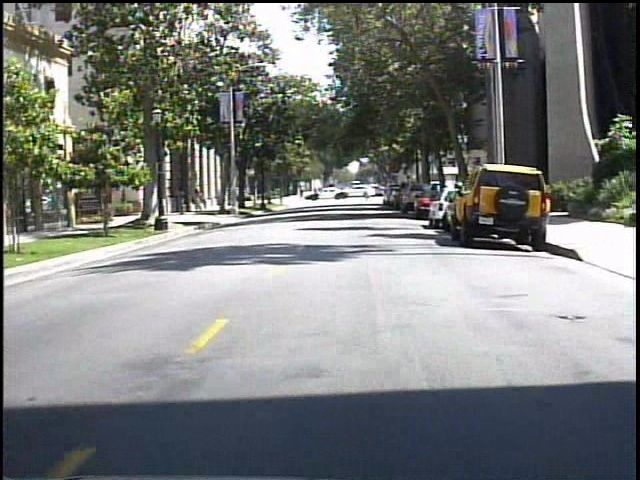person: (193, 186, 213, 219), (172, 185, 189, 218), (361, 180, 375, 202)
